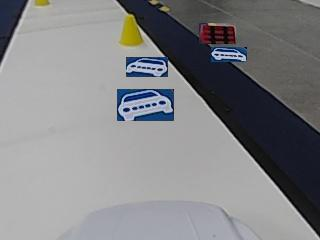cone: (120, 16, 144, 46)
